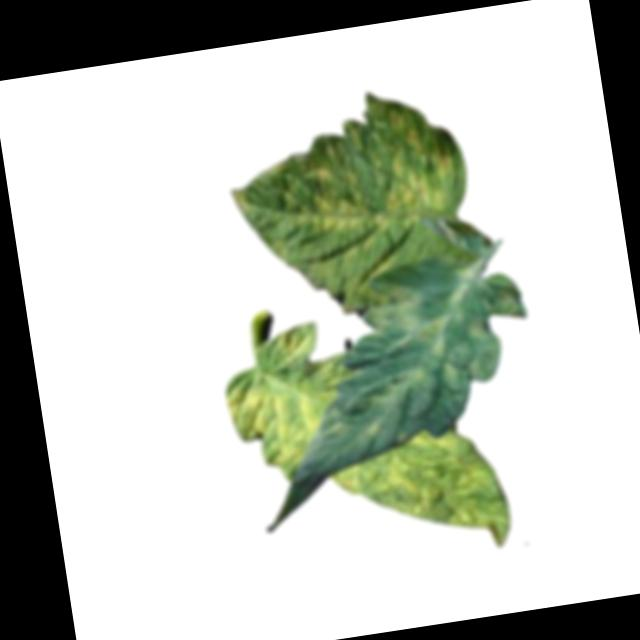Leaf_Mold: (216, 78, 470, 256), (328, 422, 521, 570), (351, 266, 494, 413), (221, 357, 331, 486)
